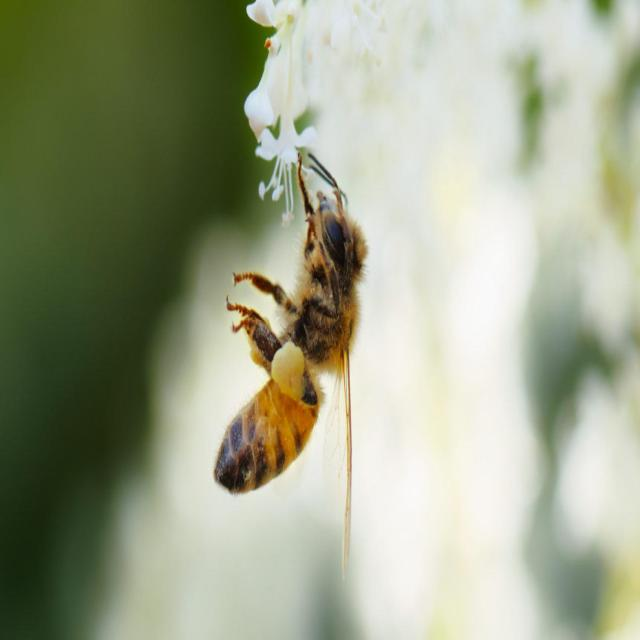honeybee: (214, 194, 358, 506)
